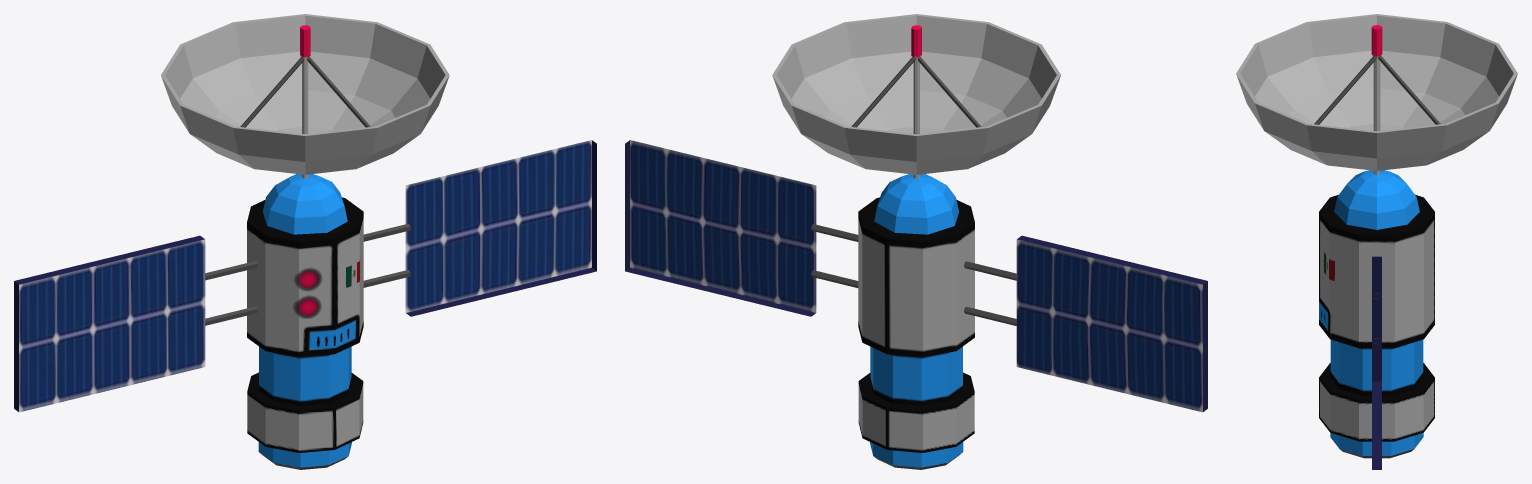
Rendered from Satellite Nuevo.fbx.
3 renders of one model, left to right at view 1: azimuth 30°, elevation 25°; view 2: azimuth 150°, elevation 25°; view 3: azimuth 270°, elevation 25°, orthographic. The views are drawn at different scales.
Visible parts, largest first — view 1: Cylinder; view 2: Cylinder; view 3: Cylinder.
Part boxes in pixels (x1=…): Cylinder: x1=14, y1=14, x2=596, y2=469; Cylinder: x1=625, y1=14, x2=1207, y2=469; Cylinder: x1=1236, y1=14, x2=1517, y2=469.
Size of the model in its own units: 1229 by 863 by 532.
